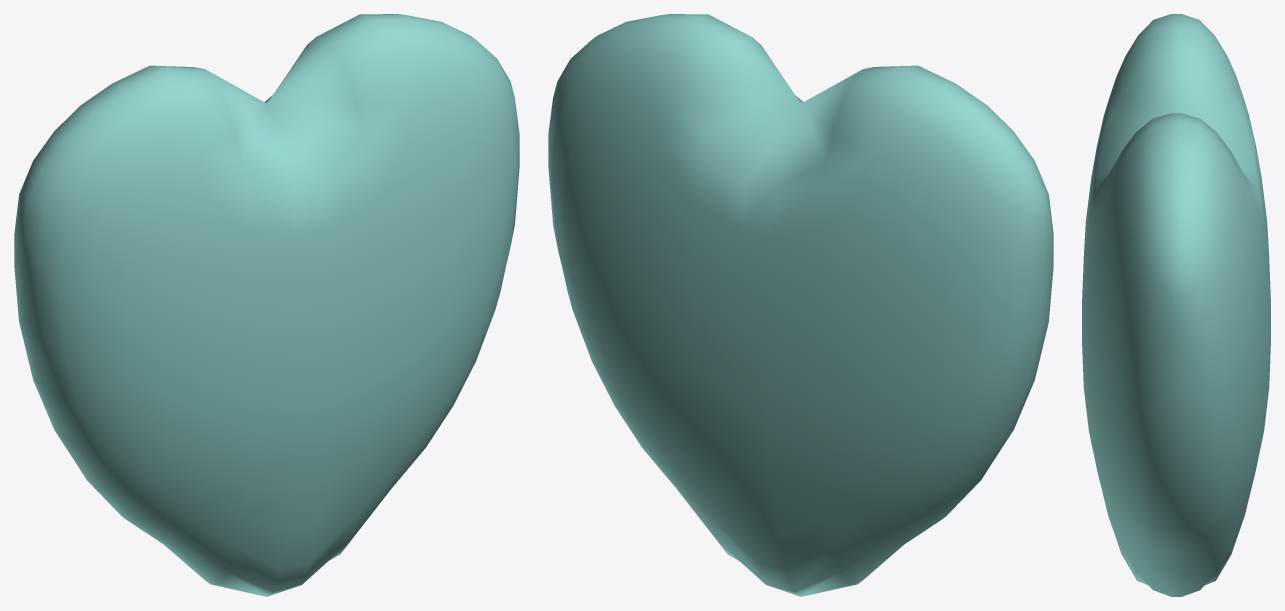
The model's file is BaseModel.gltf.
3 views of the same model, side by side, from view 1: azimuth 30°, elevation 25°; view 2: azimuth 150°, elevation 25°; view 3: azimuth 270°, elevation 25° (orthographic). The views are drawn at different scales.
Visible parts, largest first — view 1: Cube; view 2: Cube; view 3: Cube.
Part boxes in pixels (x1=…): Cube: x1=14, y1=14, x2=519, y2=596; Cube: x1=548, y1=14, x2=1053, y2=596; Cube: x1=1082, y1=14, x2=1270, y2=596.
Size of the model in its own units: 2 by 2.16 by 0.7055.
